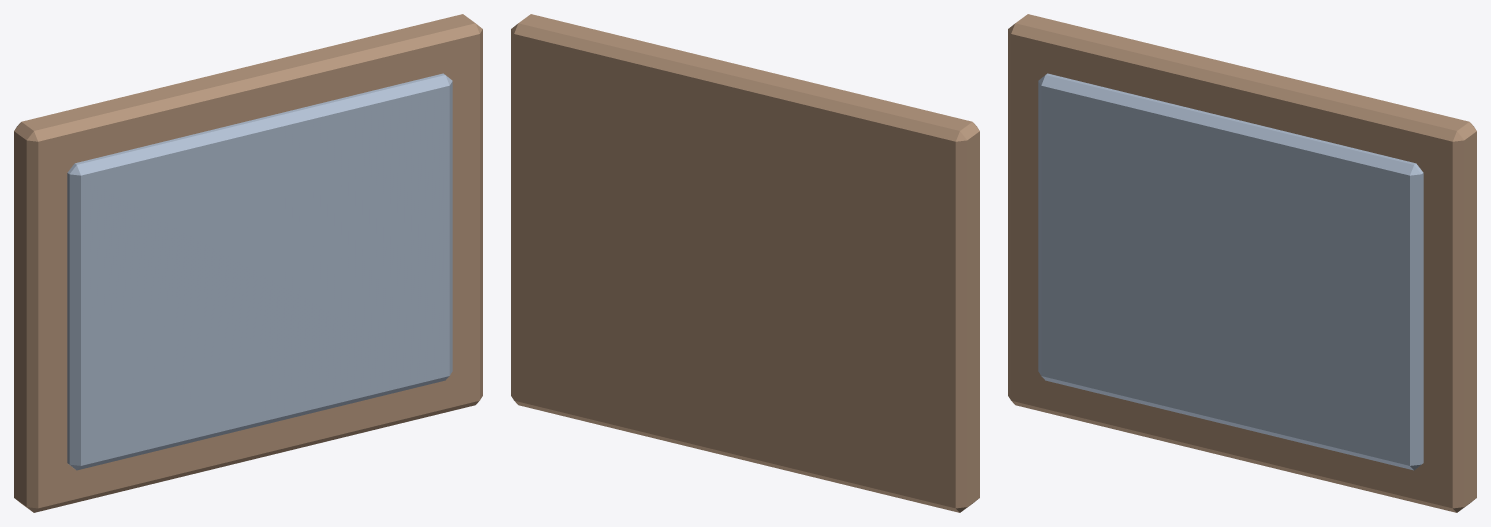
File: SM_Picture_Frame_01.fbx
3 views of the same model, side by side, from view 1: azimuth 30°, elevation 25°; view 2: azimuth 150°, elevation 25°; view 3: azimuth 330°, elevation 25° (orthographic).
Parts seen in each view (by area): view 1: Picture_Frame_01; view 2: Picture_Frame_01; view 3: Picture_Frame_01.
Boxes of the visible parts, x1=… form: Picture_Frame_01: x1=14, y1=14, x2=482, y2=512; Picture_Frame_01: x1=511, y1=14, x2=979, y2=512; Picture_Frame_01: x1=1008, y1=14, x2=1476, y2=512.
Size of the model in its own units: 50 by 40 by 5.2.
